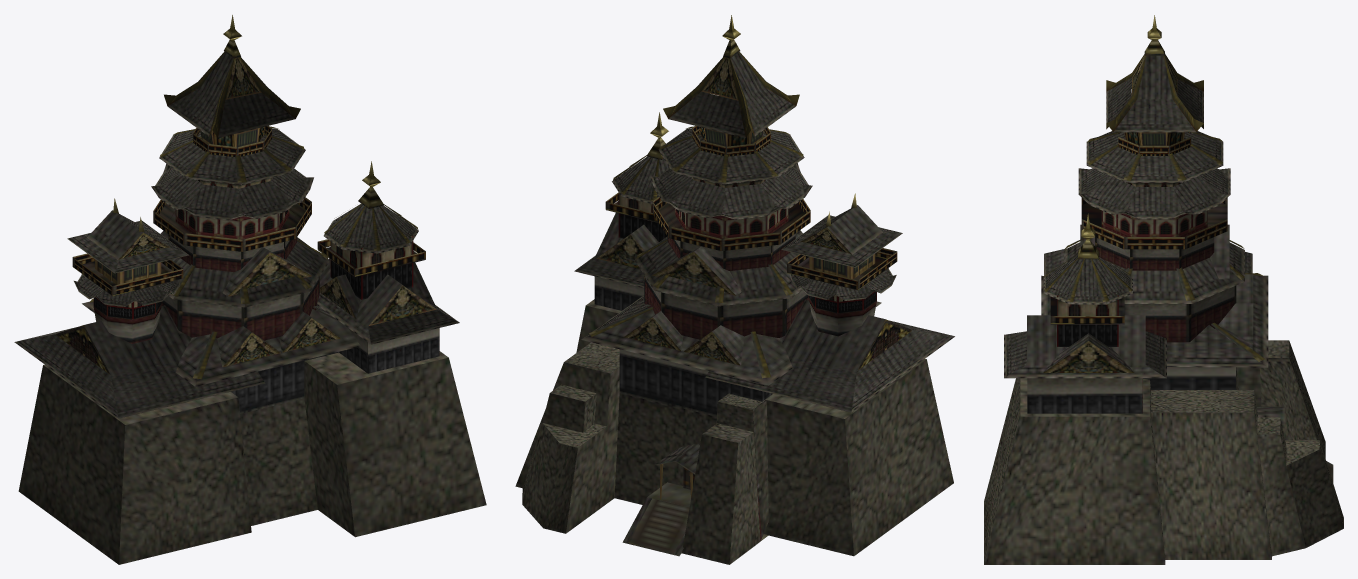
Rendered from saveicon.ico.obj.
3 renders of one model, left to right at view 1: azimuth 30°, elevation 25°; view 2: azimuth 150°, elevation 25°; view 3: azimuth 270°, elevation 25°, orthographic.
Size of the model in its own units: 3.73 by 4.95 by 3.44.
Materials: 1 (1 with a texture image).
